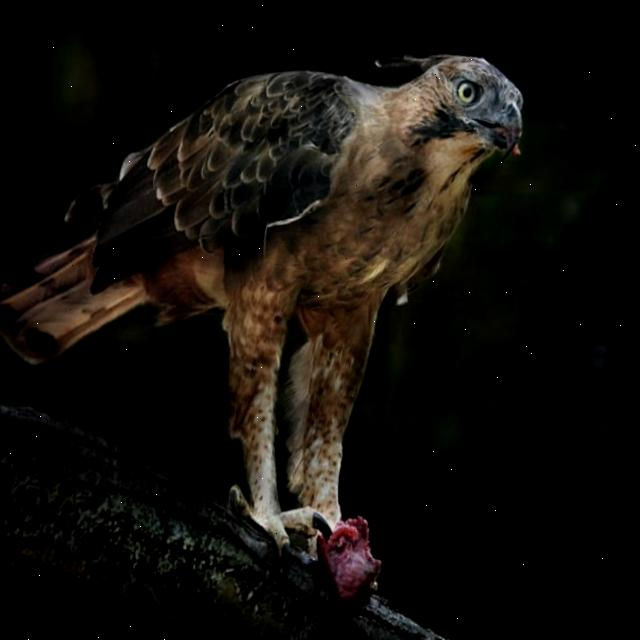Elang Jawa: (0, 0, 549, 634)
